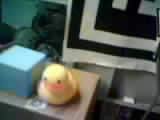duck: (33, 56, 85, 106)
